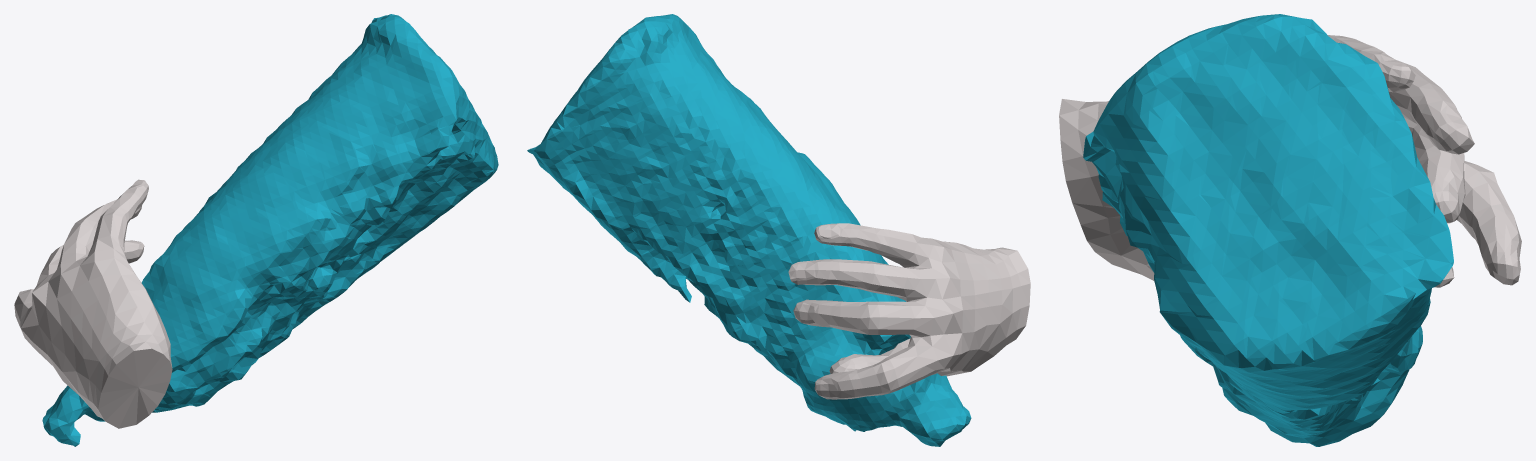
The picture shows the model from 3 angles, left to right: view 1: azimuth 30°, elevation 25°; view 2: azimuth 150°, elevation 25°; view 3: azimuth 270°, elevation 25°; orthographic projection. The views are drawn at different scales.
Parts seen in each view (by area): view 1: world; view 2: world; view 3: world.
Part boxes in pixels (x1,y1,x2,y2): world: [14, 14, 498, 446]; world: [527, 14, 1030, 446]; world: [1059, 14, 1521, 446].
Bounding box in the file's own units: 0.3081 × 0.2413 × 0.1649.
